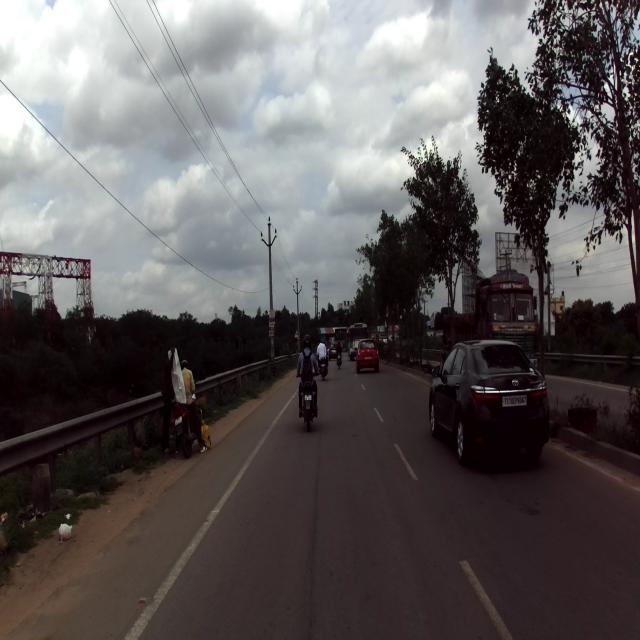car: (428, 340, 550, 464), (355, 340, 380, 374)
motorcycle: (171, 378, 205, 458)
